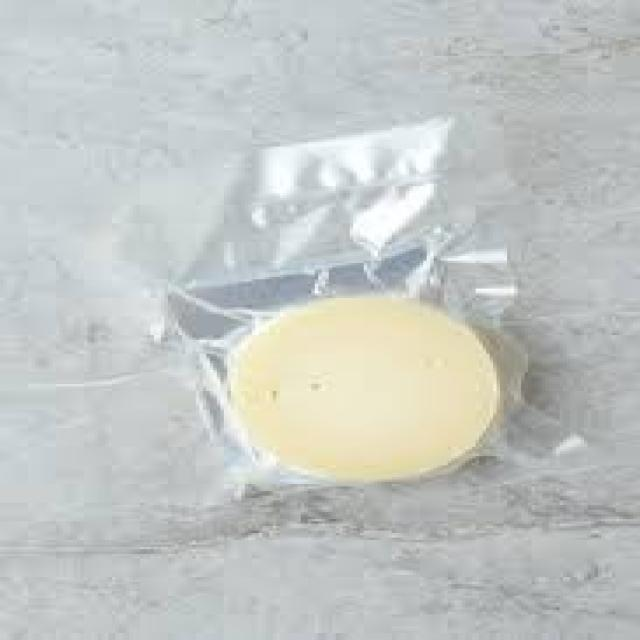cheese: (225, 296, 505, 486)
